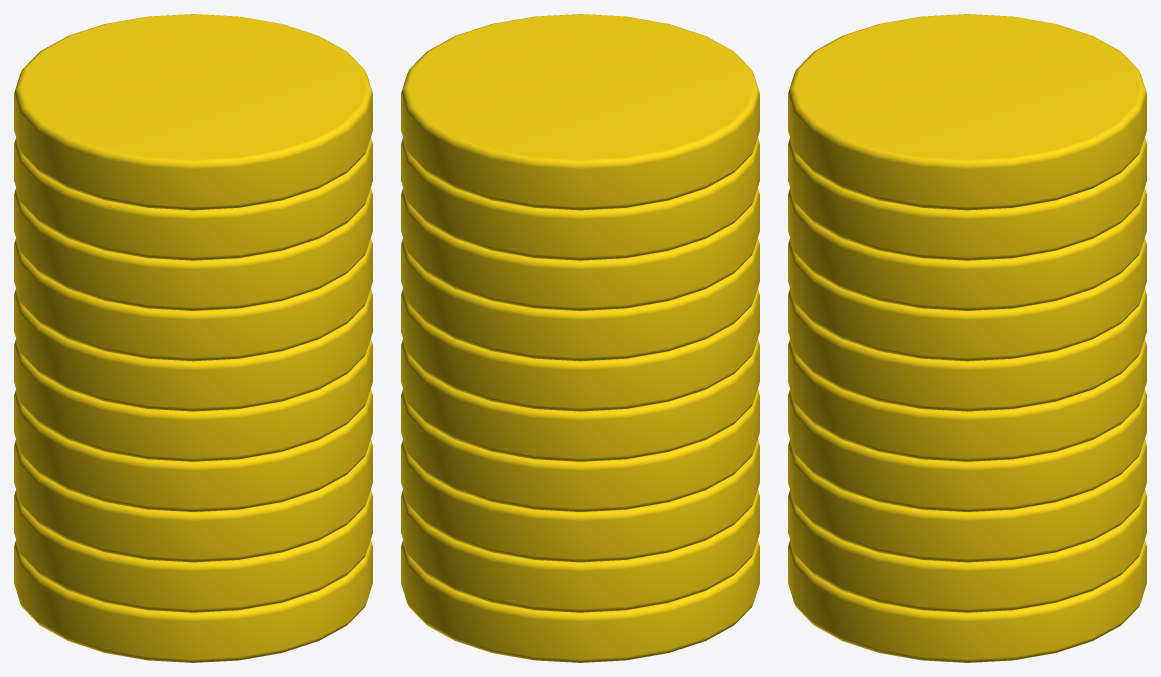
Rendered from Public_1_Stack_of_Coins_1.glb.
3 views of the same model, side by side, from view 1: azimuth 30°, elevation 25°; view 2: azimuth 150°, elevation 25°; view 3: azimuth 270°, elevation 25° (orthographic).
Visible parts, largest first — view 1: Public_1_Stack_of_Coins_1; view 2: Public_1_Stack_of_Coins_1; view 3: Public_1_Stack_of_Coins_1.
Part boxes in pixels (x1=…): Public_1_Stack_of_Coins_1: x1=14, y1=14, x2=372, y2=662; Public_1_Stack_of_Coins_1: x1=401, y1=14, x2=759, y2=662; Public_1_Stack_of_Coins_1: x1=788, y1=14, x2=1146, y2=662.
Size of the model in its own units: 1.11 by 1.72 by 1.11.
Materials: 1 (1 with a texture image).
